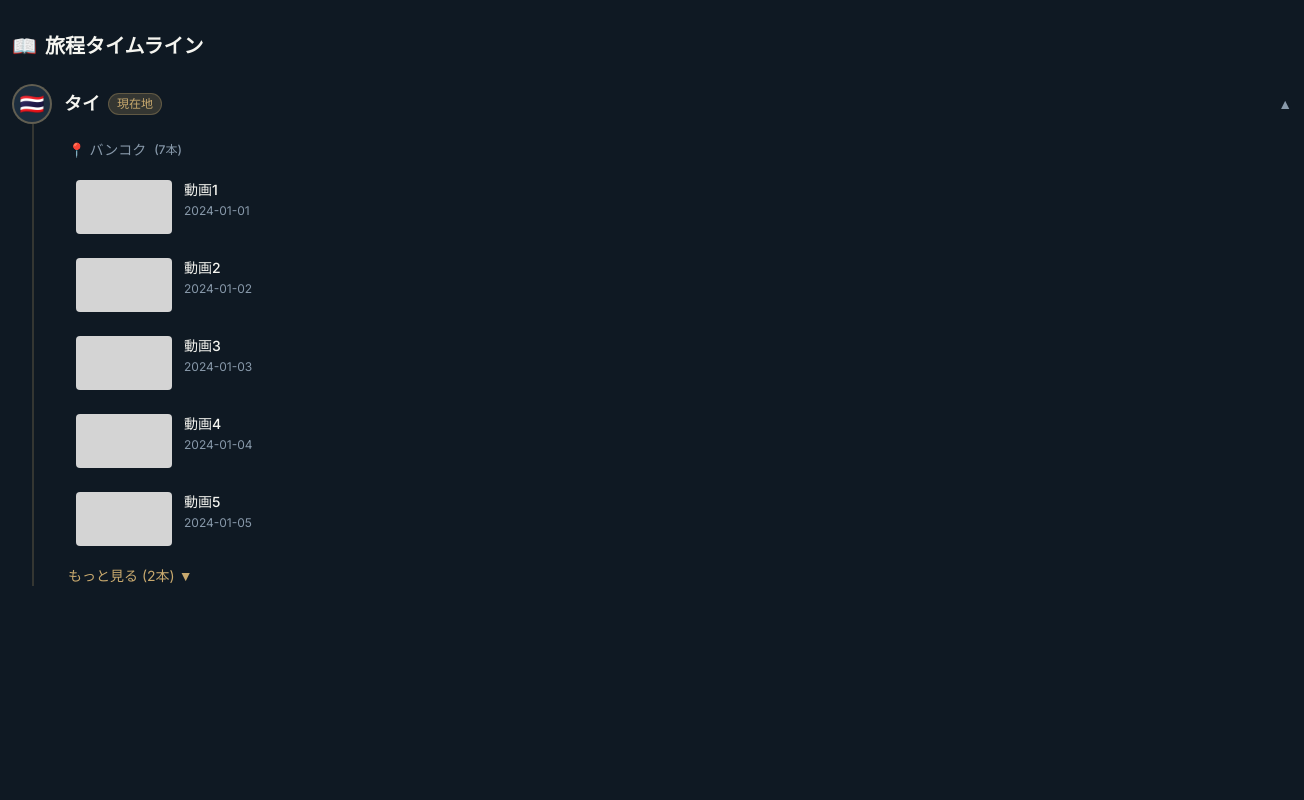
Test: JourneyTimeline › 「もっと見る」ボタンクリックで全動画を展開する
Click the button "もっと見る (2本) ▼" at (130, 576), box [68,566,193,586]
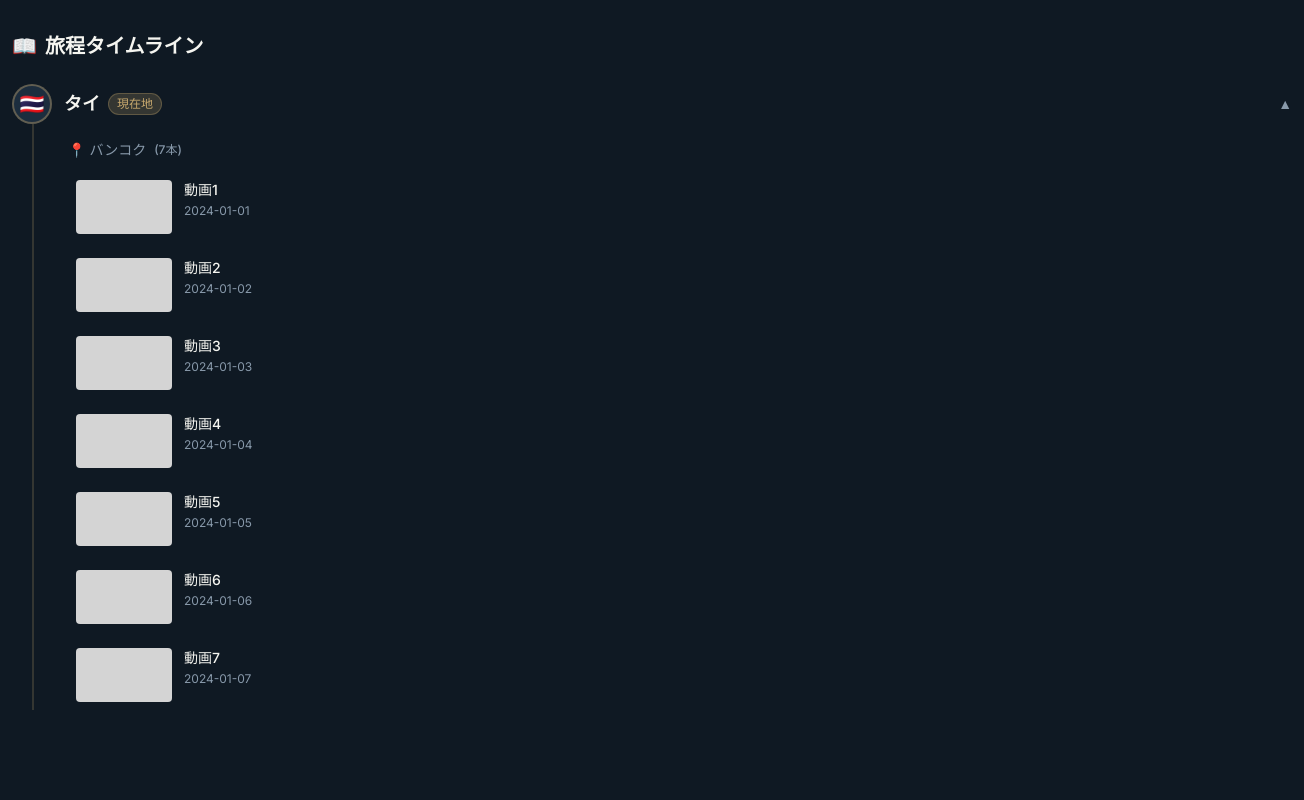
Expected: the text "動画7" is shown, [184,649,220,666]
